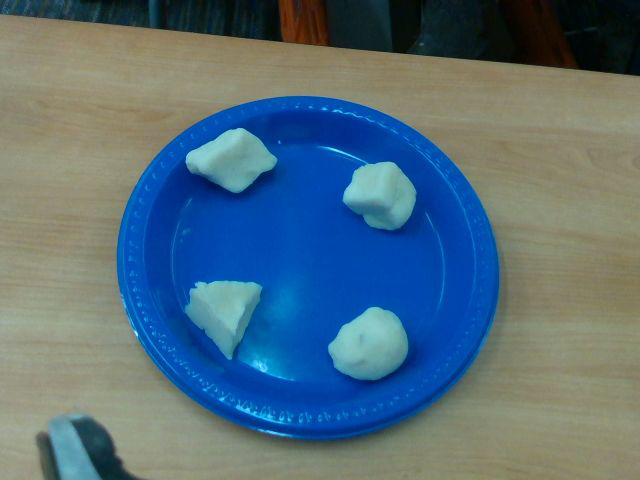mashed_potato: (186, 128, 278, 193), (328, 306, 408, 380), (187, 281, 261, 356), (343, 161, 416, 229)
